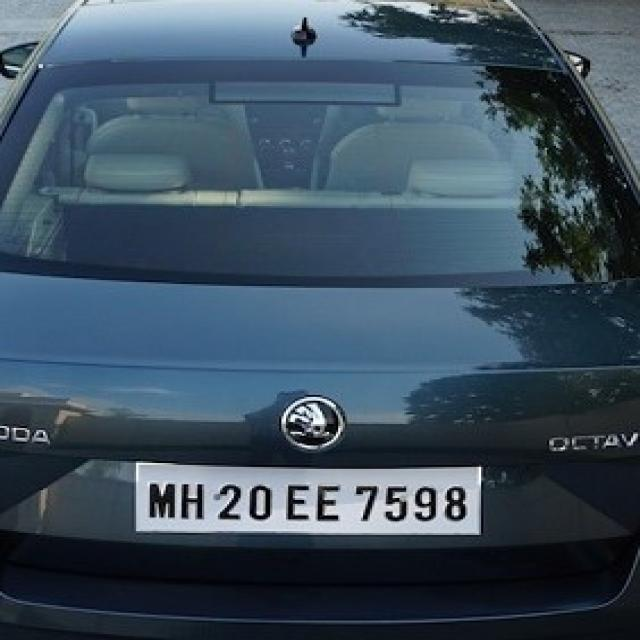license-plate: (132, 459, 478, 531)
